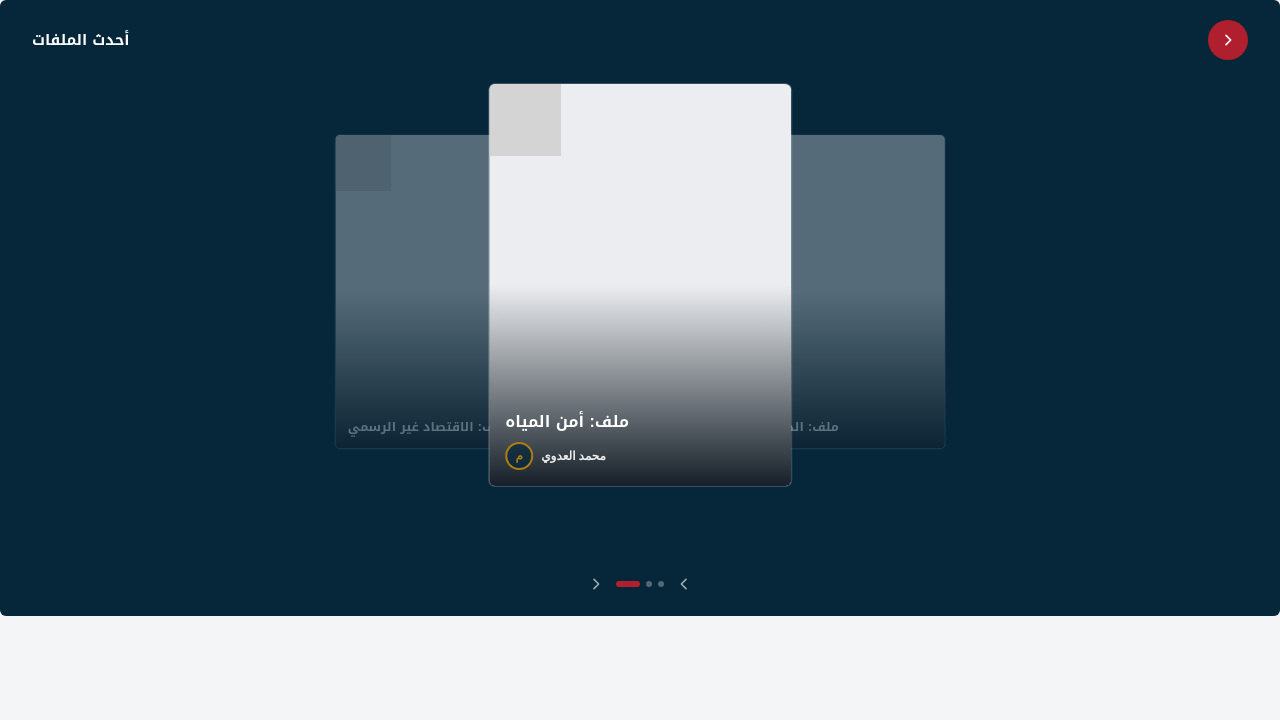
Test: SpecialShowcase › counts the shelf with one dot per file, jumping on click
Click the button named "الملف 3" at point(661, 584), box [658,581,664,587]
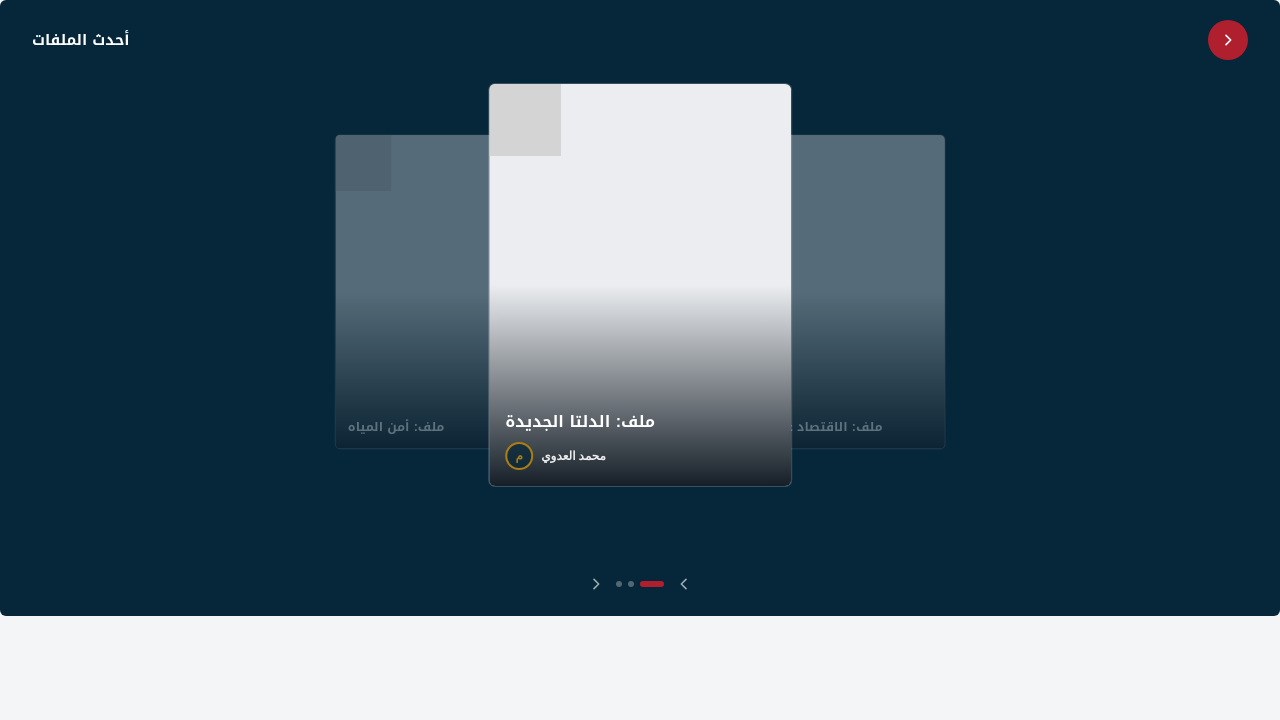
Now the link "ملف: الدلتا الجديدة م محمد العدوي" is shown, box [489,84,791,486]
